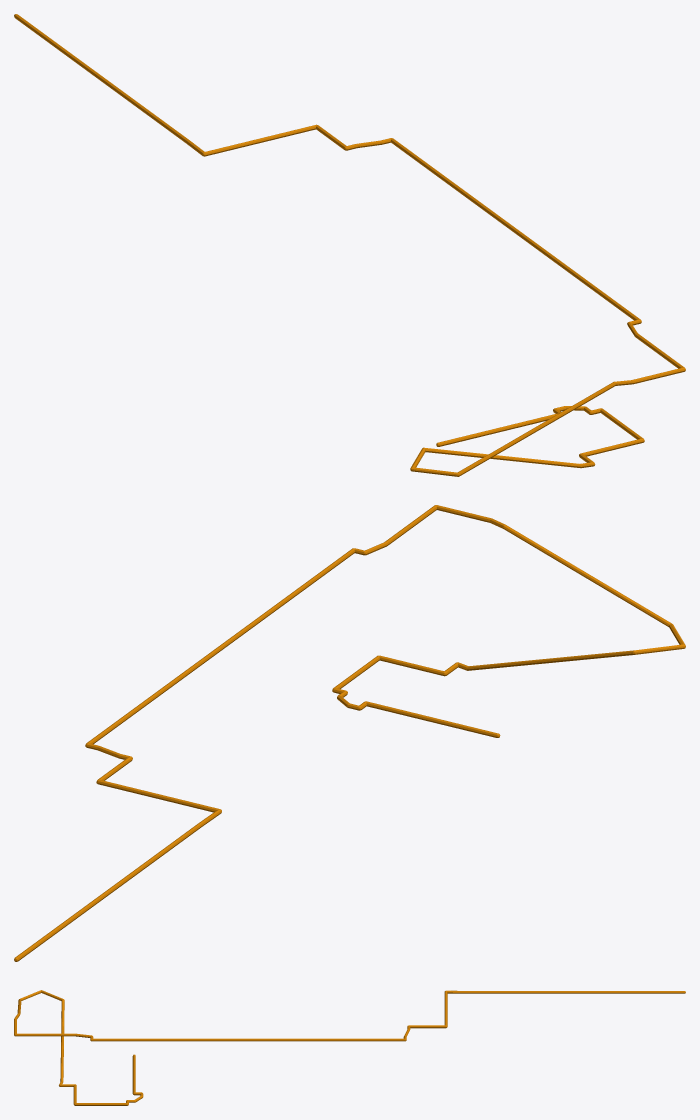
The picture shows the model from 3 angles, top to bottom: view 1: azimuth 30°, elevation 25°; view 2: azimuth 150°, elevation 25°; view 3: azimuth 270°, elevation 25°; orthographic projection. The views are drawn at different scales.
Size of the model in its own units: 1325 by 520 by 4501.
